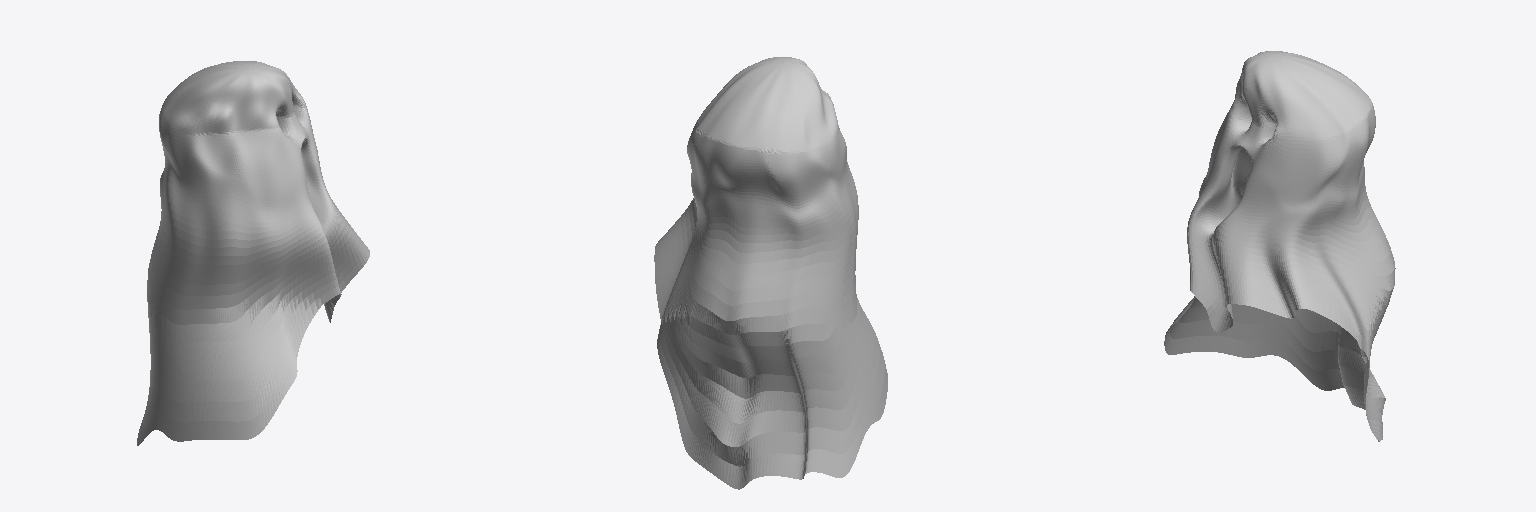
Rendered from ghost_000026.obj.
3 views of the same model, side by side, from view 1: azimuth 30°, elevation 25°; view 2: azimuth 150°, elevation 25°; view 3: azimuth 270°, elevation 25° (orthographic).
Visible parts, largest first — view 1: 球体; view 2: 球体; view 3: 球体.
Part boxes in pixels (x1,y1,x2,y2): 球体: (137, 61, 369, 445); 球体: (654, 57, 887, 489); 球体: (1164, 51, 1395, 441).
Bounding box in the file's own units: 8.62 × 15.89 × 8.61.